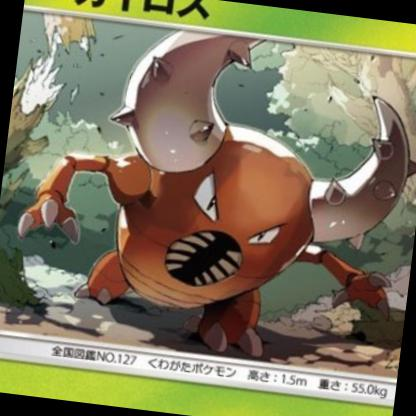Pinsir: (7, 16, 416, 416)
